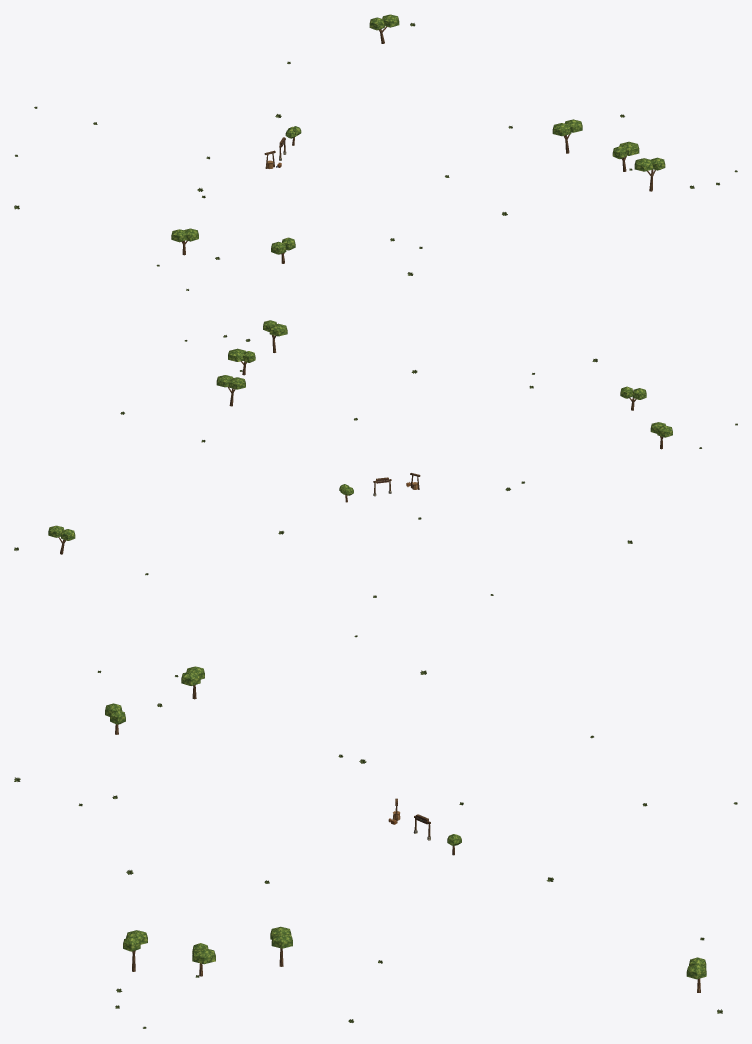
Rendered from FieldCell_1_3.fbx.
3 views of the same model, one above another, from view 1: azimuth 30°, elevation 25°; view 2: azimuth 150°, elevation 25°; view 3: azimuth 270°, elevation 25° (orthographic). The views are drawn at different scales.
Visible parts, largest first — view 1: FieldCell_1_3; view 2: FieldCell_1_3; view 3: FieldCell_1_3.
Boxes of the visible parts, x1,y1,x2,y2 form: FieldCell_1_3: (171,14,665,263); FieldCell_1_3: (48,320,672,554); FieldCell_1_3: (105,666,706,992).
Size of the model in its own units: 15260 by 1909 by 13955.
